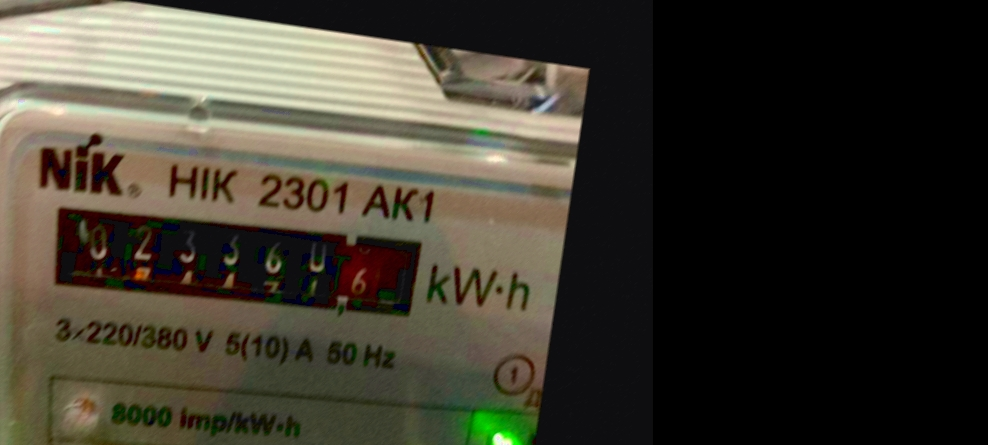0: (81, 218, 112, 263), (302, 235, 330, 275)
2: (126, 219, 157, 262)
3: (173, 223, 199, 266), (215, 228, 242, 268)
6: (256, 234, 288, 278), (346, 261, 372, 299)
screen: (22, 172, 436, 347)
